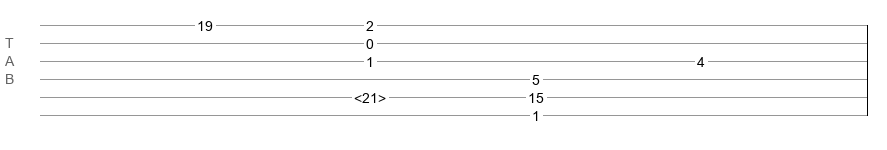0: (366, 36, 374, 46)
1: (366, 54, 374, 64), (532, 108, 540, 118)
15: (528, 90, 544, 100)
19: (197, 18, 213, 28)
2: (366, 18, 374, 28)
4: (697, 54, 705, 64)
5: (532, 72, 540, 82)
harmonic: (354, 90, 386, 100)
